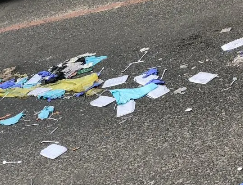garbage: (1, 57, 100, 101), (96, 63, 172, 108), (86, 89, 151, 113), (23, 141, 74, 161), (216, 27, 243, 62), (185, 70, 220, 88), (1, 106, 25, 131), (31, 106, 56, 122)
